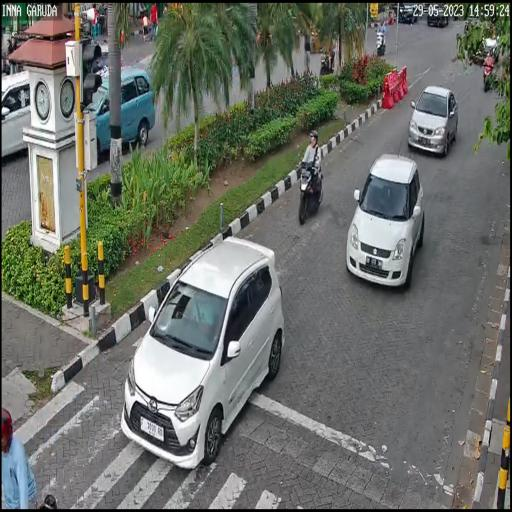mobil: (122, 232, 285, 476), (345, 152, 427, 289), (408, 85, 458, 158)
motor: (296, 152, 323, 223)
